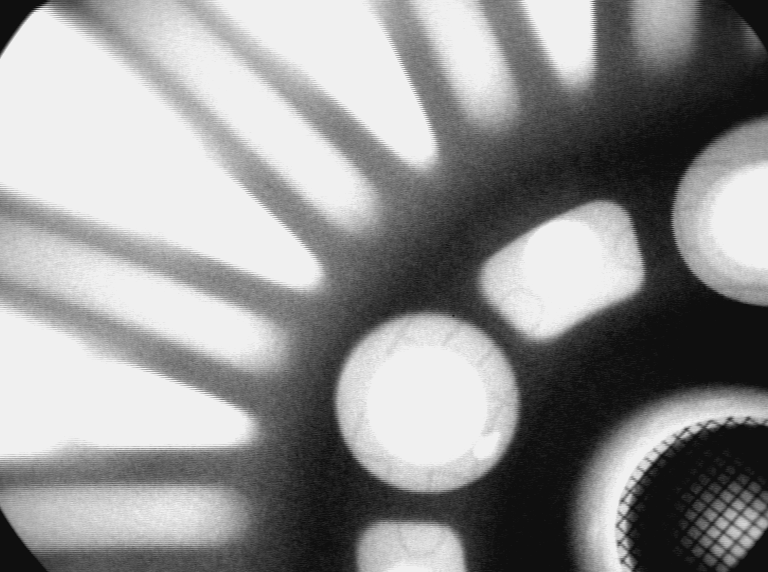defect: (472, 429, 505, 463)
